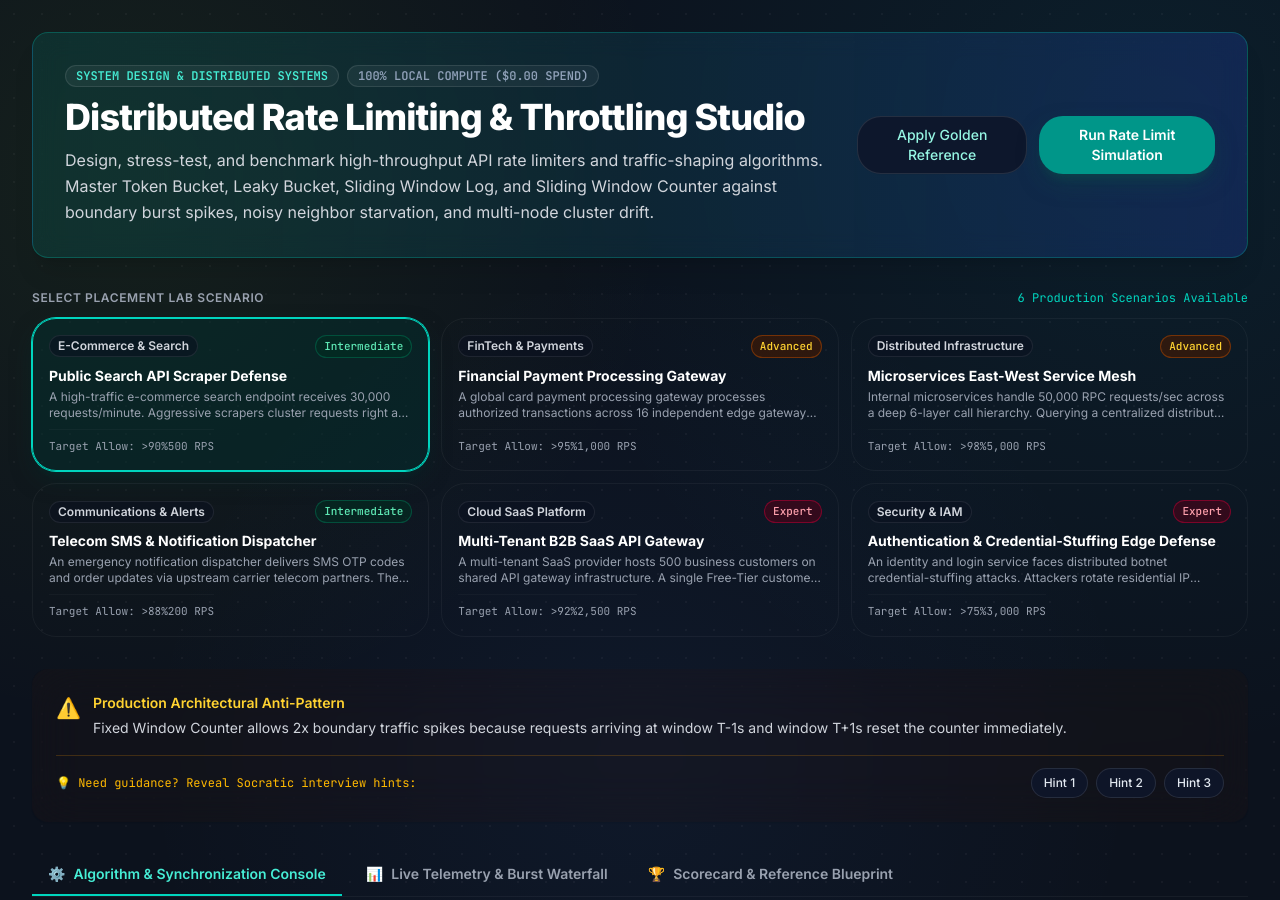
Test: RateLimiterPage Component & Interaction Suite › reveals Socratic guidance hints when clicking Hint buttons
What coordinates should you click on to do the following:
click the button "Hint 1"
I would click on:
 (1059, 783)
Its box is [1031,768,1088,798].
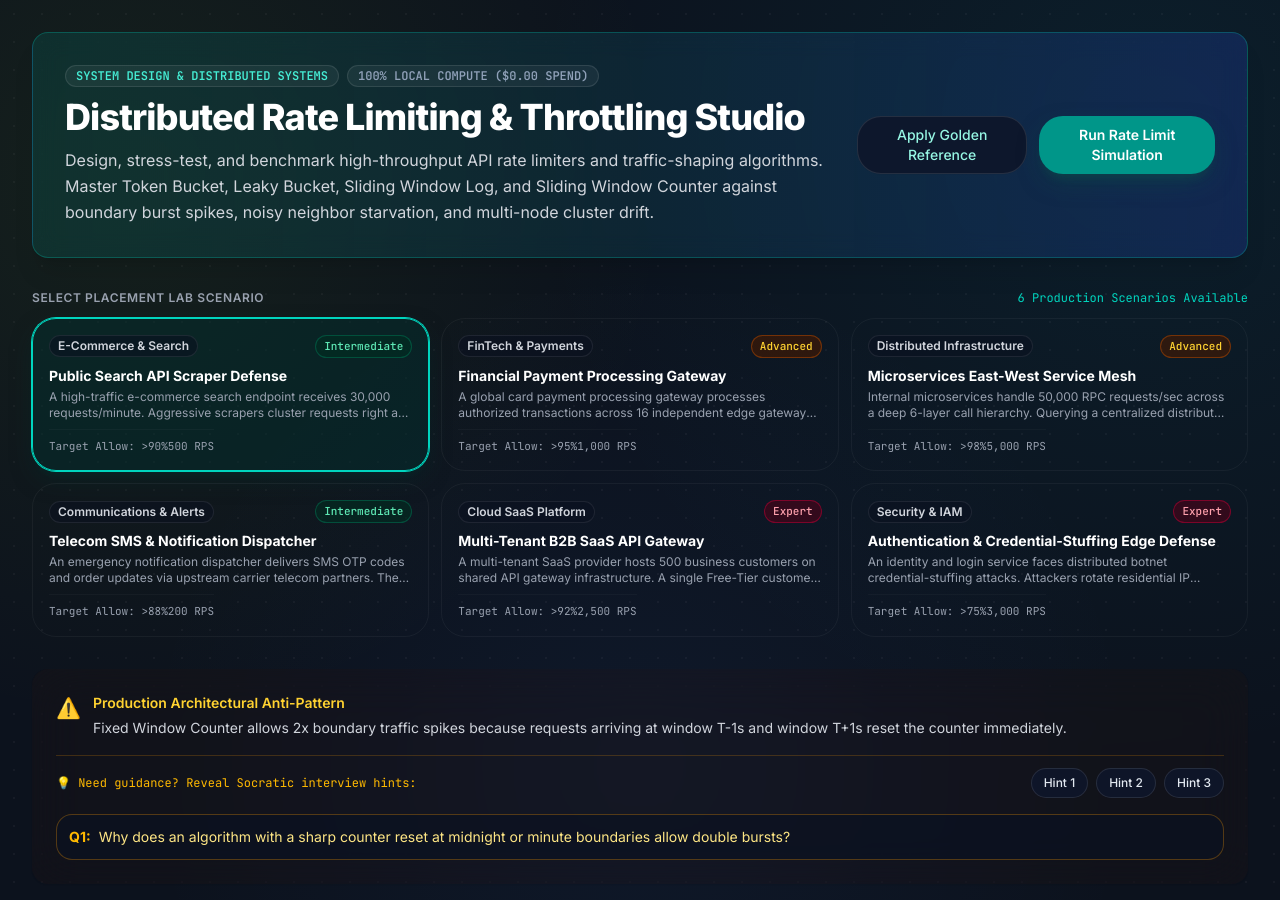
Now the text "Q1:" is shown, box [69,827,91,847]
Now the text "Why does an algorithm with a sharp counter reset" is shown, box [99,828,790,845]
